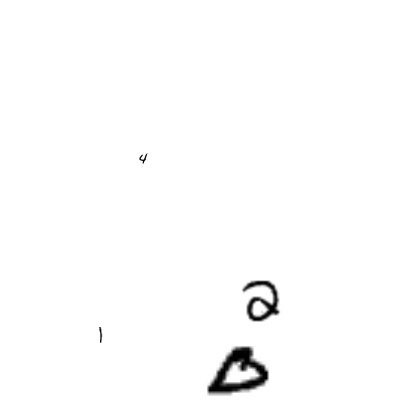Ankle_boot: (22, 108, 78, 164), (266, 68, 288, 90)
Shirt: (74, 317, 88, 331)
T-shirt/top: (82, 338, 96, 352)
